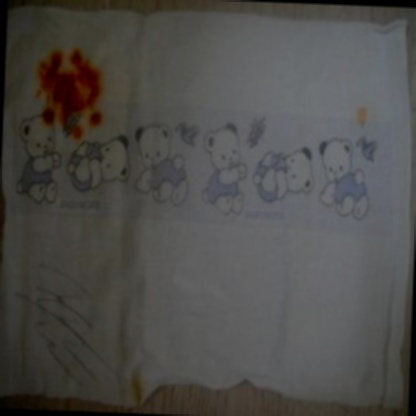kimchi: (31, 49, 106, 136), (50, 77, 87, 111), (353, 102, 374, 130), (68, 50, 88, 71), (40, 103, 58, 125), (43, 50, 63, 68), (73, 124, 86, 140), (92, 111, 105, 124)
